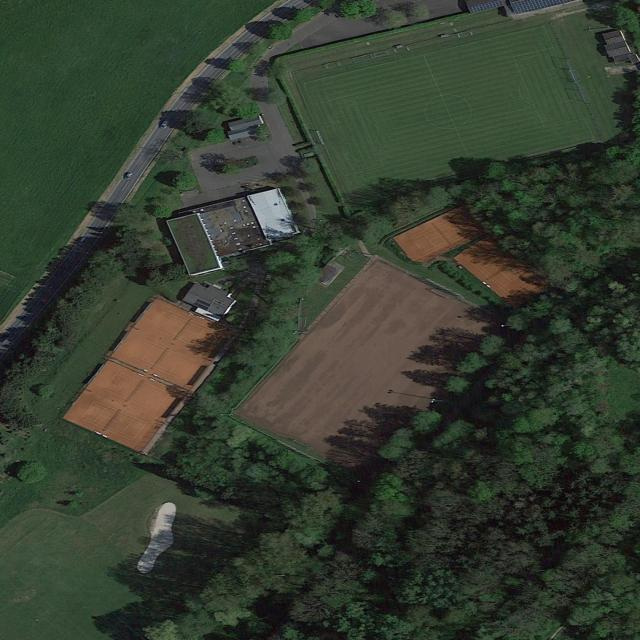small-vehicle: (158, 120, 171, 130), (124, 172, 134, 181)
